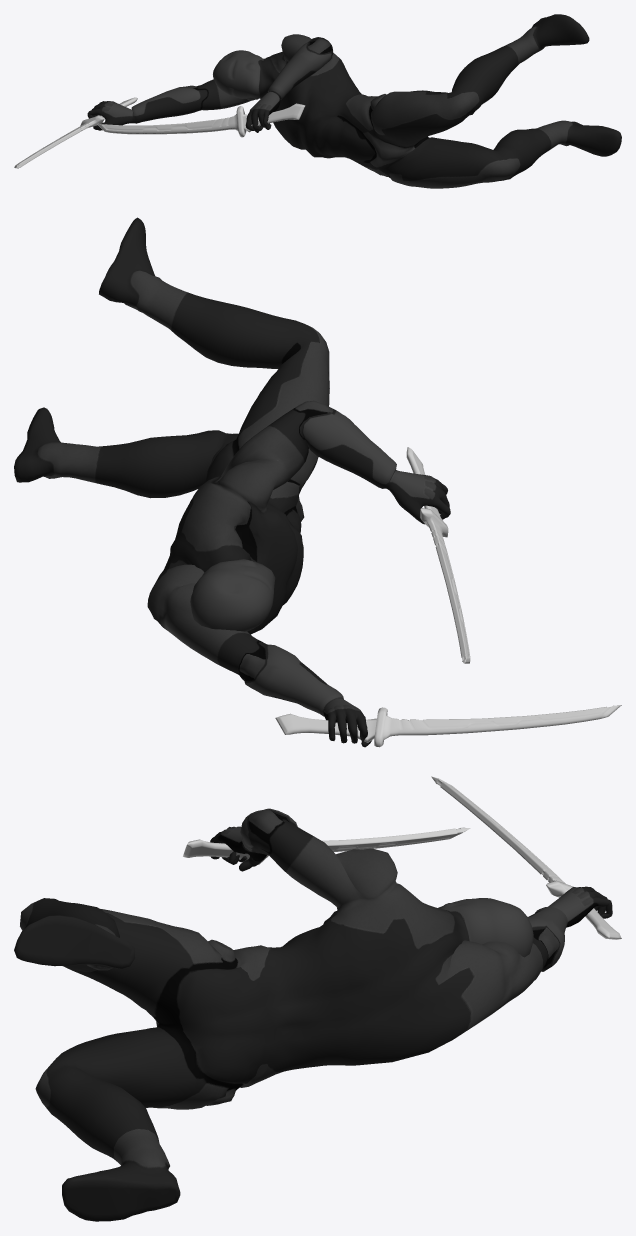
3 renders of one model, top to bottom at view 1: azimuth 30°, elevation 25°; view 2: azimuth 150°, elevation 25°; view 3: azimuth 270°, elevation 25°, orthographic. The views are drawn at different scales.
Visible parts, largest first — view 1: Cyborg_Ninja_Killer, Sword_l, Sword_l001; view 2: Cyborg_Ninja_Killer, Sword_l001, Sword_l; view 3: Cyborg_Ninja_Killer, Sword_l001, Sword_l.
Part boxes in pixels (x1,y1,x2,y2): Cyborg_Ninja_Killer: (87, 14, 621, 188); Sword_l: (97, 103, 305, 137); Sword_l001: (14, 97, 137, 168); Cyborg_Ninja_Killer: (14, 217, 450, 747); Sword_l001: (275, 705, 621, 747); Sword_l: (406, 447, 470, 663); Cyborg_Ninja_Killer: (14, 808, 612, 1221); Sword_l001: (431, 776, 621, 939); Sword_l: (183, 827, 470, 864).
Bounding box in the file's own units: 222 × 73.63 × 143.
